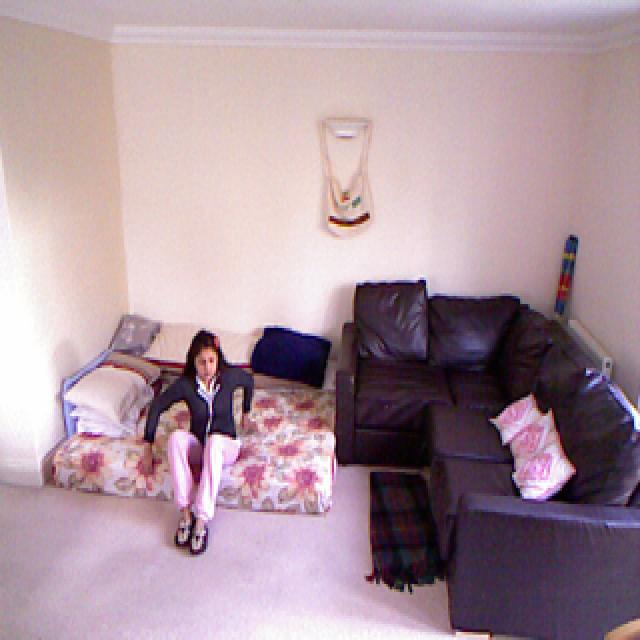sitting: (139, 331, 255, 556)
